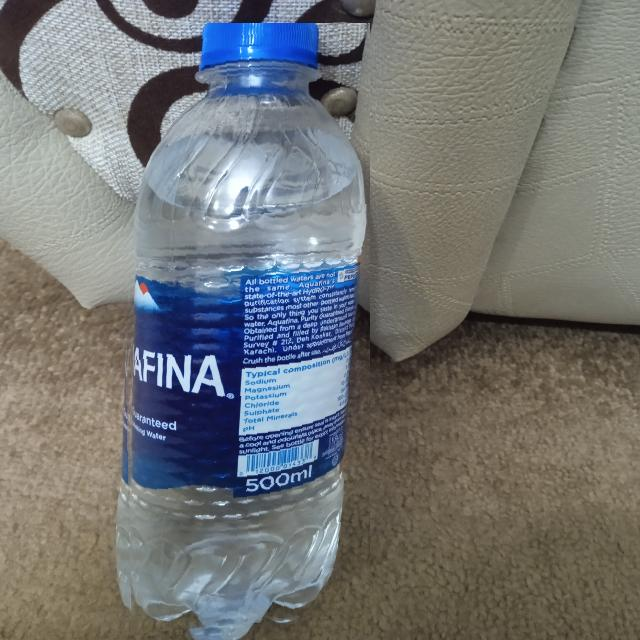Plastic: (118, 23, 370, 634)
